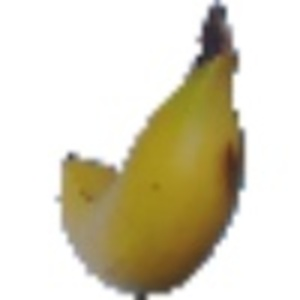banana: (54, 57, 241, 292)
